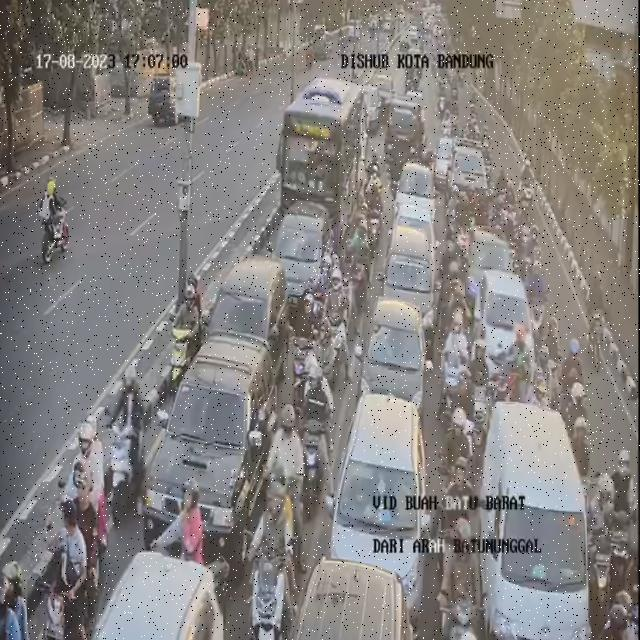bus: (282, 106, 346, 227)
cars: (140, 333, 272, 579), (471, 407, 592, 640), (335, 390, 442, 632), (87, 556, 223, 640), (285, 562, 413, 640), (212, 254, 288, 376), (354, 300, 431, 408), (475, 269, 534, 373), (272, 201, 328, 303), (380, 226, 432, 334), (397, 163, 439, 256), (466, 226, 512, 298), (385, 98, 424, 169), (445, 139, 488, 193)
motorcycle: (28, 478, 102, 638), (63, 420, 116, 579), (251, 477, 299, 640), (105, 377, 151, 529), (162, 478, 218, 593), (301, 348, 333, 512), (263, 414, 303, 536), (444, 504, 480, 639), (314, 247, 352, 374), (291, 288, 330, 405), (609, 450, 640, 595), (588, 469, 618, 618), (443, 458, 478, 570), (442, 407, 478, 509), (170, 285, 203, 375), (442, 315, 466, 428), (587, 263, 610, 377), (347, 216, 369, 322), (468, 343, 492, 430), (568, 413, 590, 488), (366, 176, 384, 258), (443, 259, 465, 326), (530, 256, 546, 338), (537, 345, 557, 410), (562, 328, 584, 382), (543, 313, 562, 365), (568, 379, 587, 418), (518, 224, 530, 261), (443, 237, 457, 263)
